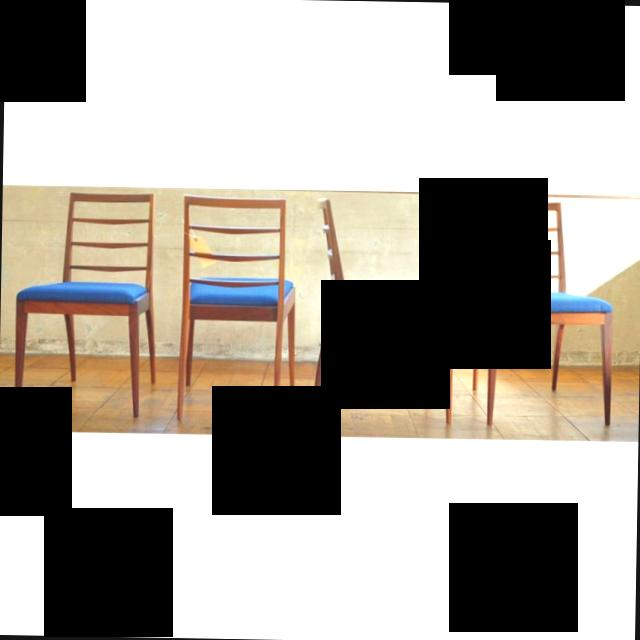chair vintage: (172, 189, 306, 428)
